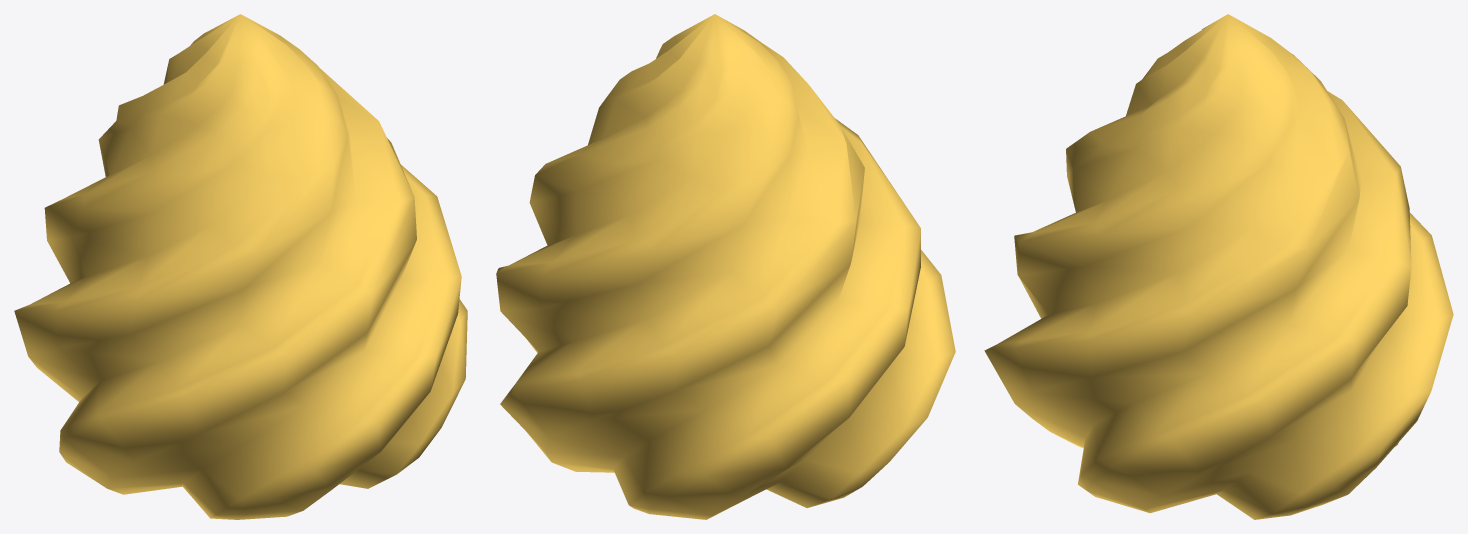
The model's file is Ice Cream Spiral C Yellow.fbx.
3 renders of one model, left to right at view 1: azimuth 30°, elevation 25°; view 2: azimuth 150°, elevation 25°; view 3: azimuth 270°, elevation 25°, orthographic.
Visible parts, largest first — view 1: Ice Cream Spiral C Yellow; view 2: Ice Cream Spiral C Yellow; view 3: Ice Cream Spiral C Yellow.
Part boxes in pixels (<box>): Ice Cream Spiral C Yellow: <box>14,14,467,519</box>; Ice Cream Spiral C Yellow: <box>496,14,955,519</box>; Ice Cream Spiral C Yellow: <box>984,14,1453,519</box>.
Bounding box in the file's own units: 0.4215 × 0.4617 × 0.4308.
